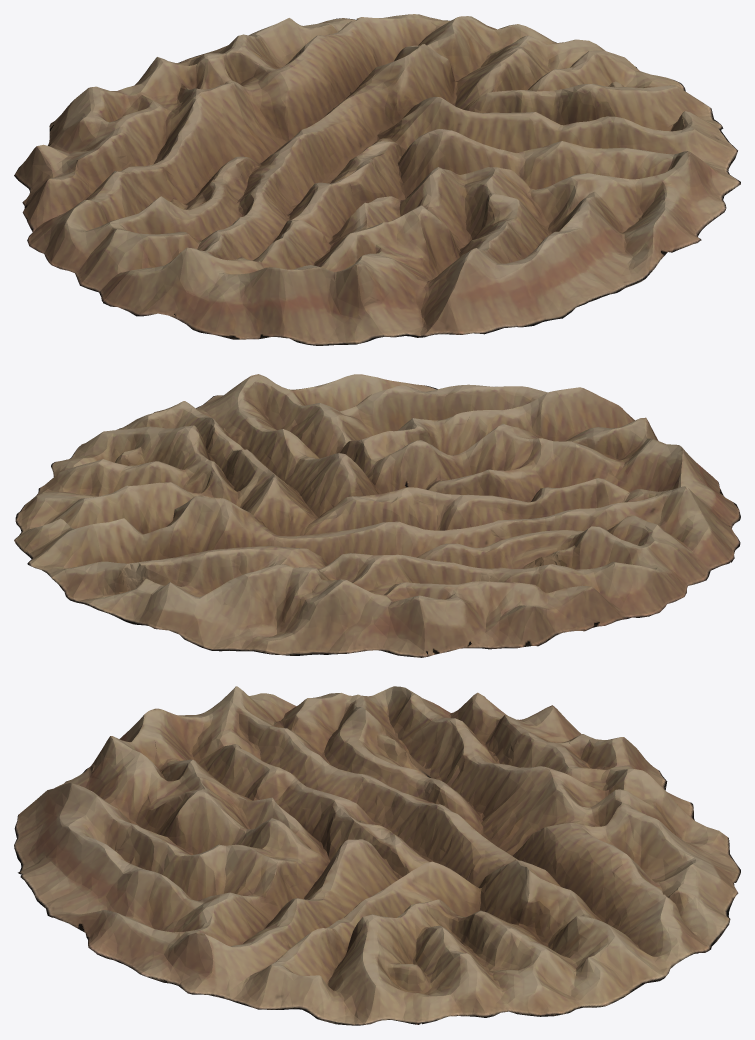
3 renders of one model, top to bottom at view 1: azimuth 30°, elevation 25°; view 2: azimuth 150°, elevation 25°; view 3: azimuth 270°, elevation 25°, orthographic. The views are drawn at different scales.
Parts seen in each view (by area): view 1: world; view 2: world; view 3: world.
Boxes of the visible parts, left/top/right/bottom form: world: left=14, top=14, right=740, bottom=345; world: left=14, top=374, right=740, bottom=657; world: left=14, top=686, right=740, bottom=1025.
Size of the model in its own units: 30 by 2.78 by 28.72.
23 materials, 23 textured.
